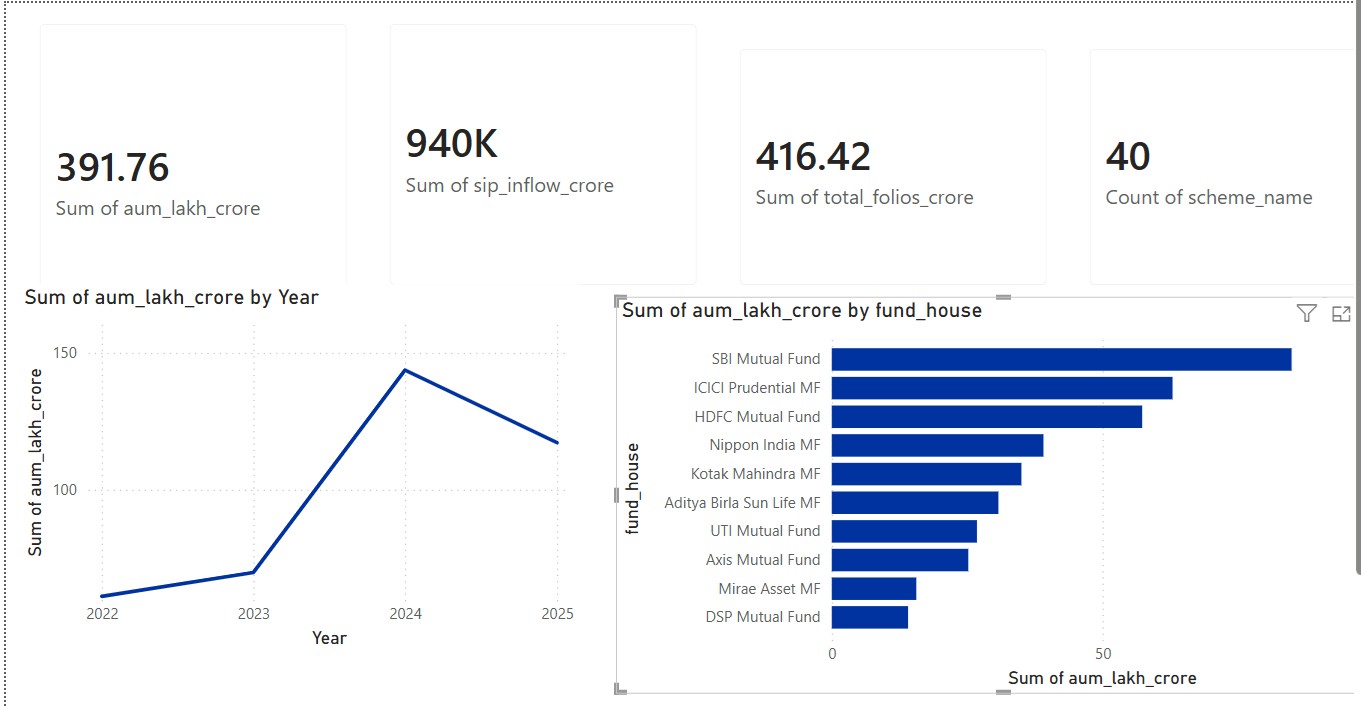

Layout of this report page (visuals, bound fields, positions):
{"tool":"powerbi","page":{"name":"Industry Overview","canvas":[1280,720],"ordinal":0},"visuals":[{"type":"cardVisual","fields":{"Data":["Sum(aum_by_fund_house_clean.aum_lakh_crore)"]},"box":[10,0,280,280],"z":0},{"type":"cardVisual","fields":{"Data":["Sum(monthly_sip_inflows_clean.sip_inflow_crore)"]},"box":[289.5,0,279.9,279.9],"z":1},{"type":"cardVisual","fields":{"Data":["Sum(industry_folio_count_clean.total_folios_crore)"]},"box":[569.5,19.2,279.9,150.9],"z":2},{"type":"cardVisual","fields":{"Data":["CountNonNull(scheme_performance_clean.scheme_name)"]},"box":[849.4,19.2,279.9,150.9],"z":5},{"type":"lineChart","fields":{"Category":["aum_by_fund_house_clean.date.Variation.Date Hierarchy.Year","aum_by_fund_house_clean.date.Variation.Date Hierarchy.Quarter","aum_by_fund_house_clean.date.Variation.Date Hierarchy.Month","aum_by_fund_house_clean.date.Variation.Date Hierarchy.Day"],"Y":["Sum(aum_by_fund_house_clean.aum_lakh_crore)"]},"box":[10,290,280,280],"z":6},{"type":"clusteredBarChart","fields":{"Category":["aum_by_fund_house_clean.fund_house"],"Y":["Sum(aum_by_fund_house_clean.aum_lakh_crore)"]},"box":[10,570,280,150],"z":7}]}

Visuals, with their boxes on the page's 1280x720 design canvas (x1, y1, x2, y2). These are canvas units, not pixel positions in the 1361x706 screenshot, which may show the page scaled, cropped or inside an application window:
cardVisual - Sum(aum_by_fund_house_clean.aum_lakh_crore): x1=10, y1=0, x2=290, y2=280
cardVisual - Sum(monthly_sip_inflows_clean.sip_inflow_crore): x1=290, y1=0, x2=569, y2=280
cardVisual - Sum(industry_folio_count_clean.total_folios_crore): x1=570, y1=19, x2=849, y2=170
cardVisual - CountNonNull(scheme_performance_clean.scheme_name): x1=849, y1=19, x2=1129, y2=170
lineChart - aum_by_fund_house_clean.date.Variation.Date Hierarchy.Year x aum_by_fund_house_clean.date.Variation.Date Hierarchy.Quarter: x1=10, y1=290, x2=290, y2=570
clusteredBarChart - aum_by_fund_house_clean.fund_house x Sum(aum_by_fund_house_clean.aum_lakh_crore): x1=10, y1=570, x2=290, y2=720
